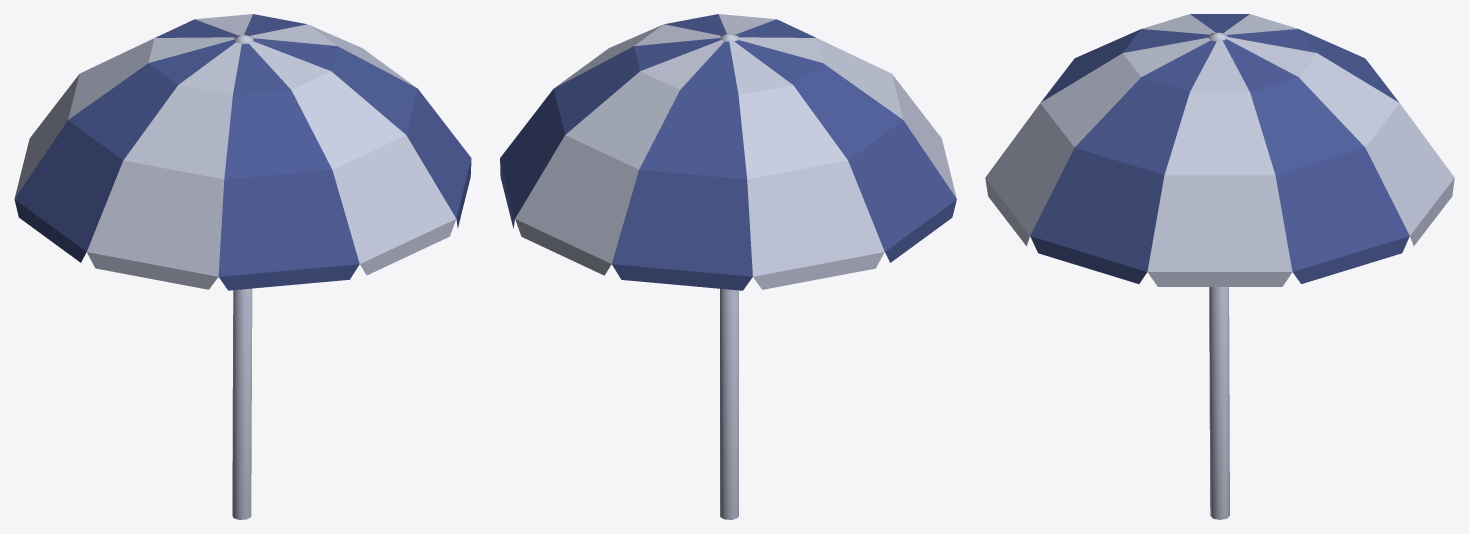
The model's file is beachUnbrella.glb.
3 views of the same model, side by side, from view 1: azimuth 30°, elevation 25°; view 2: azimuth 150°, elevation 25°; view 3: azimuth 270°, elevation 25° (orthographic).
Visible parts, largest first — view 1: beachUnbrella; view 2: beachUnbrella; view 3: beachUnbrella.
Part boxes in pixels (left/top/right/bottom): beachUnbrella: left=14, top=14, right=471, bottom=519; beachUnbrella: left=500, top=14, right=956, bottom=519; beachUnbrella: left=985, top=14, right=1454, bottom=519.
Bounding box in the file's own units: 1.61 × 1.92 × 1.69.
